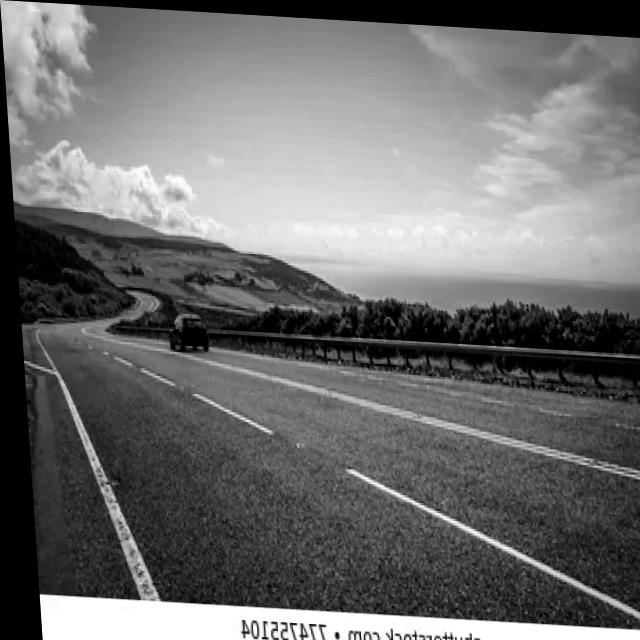cleat: (12, 225, 531, 627)
